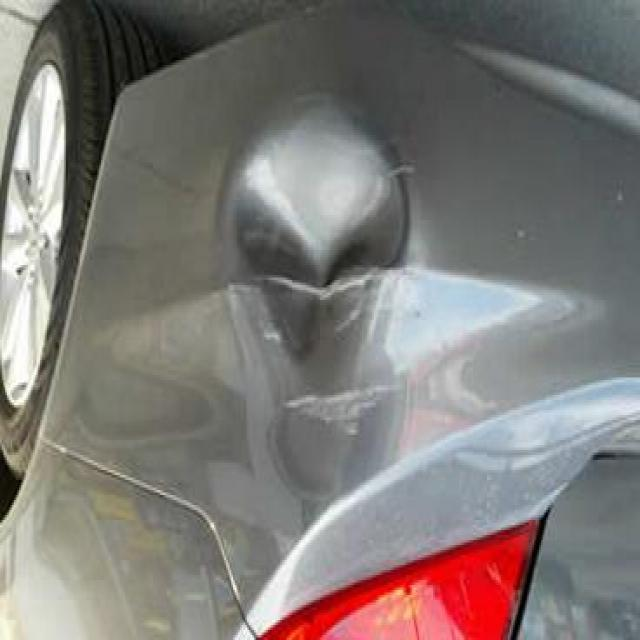dent: (212, 81, 430, 459)
